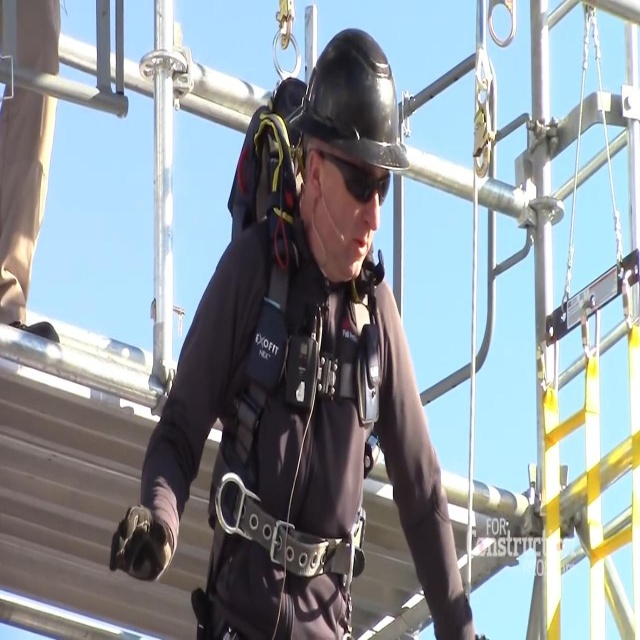Arnes_seguridad: (188, 77, 388, 640)
